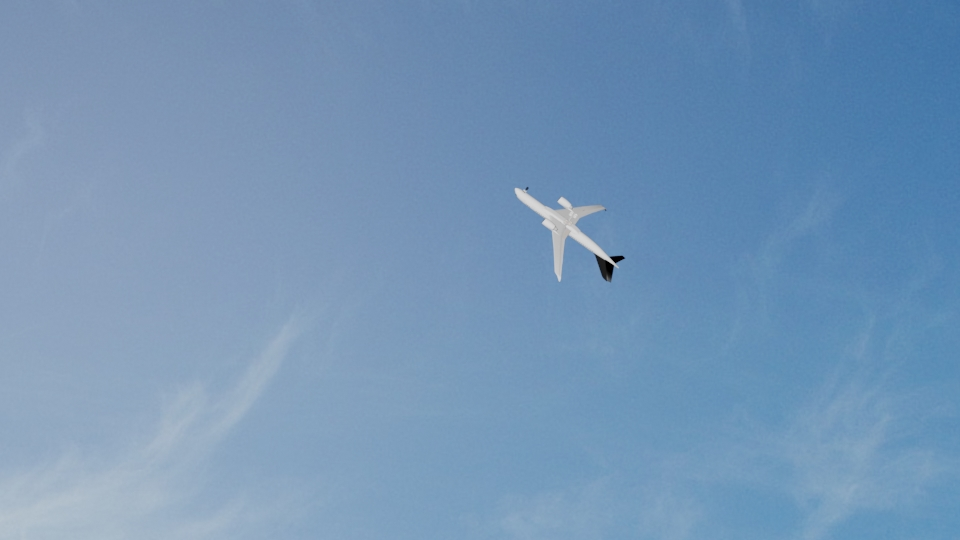plane: (513, 186, 624, 284)
